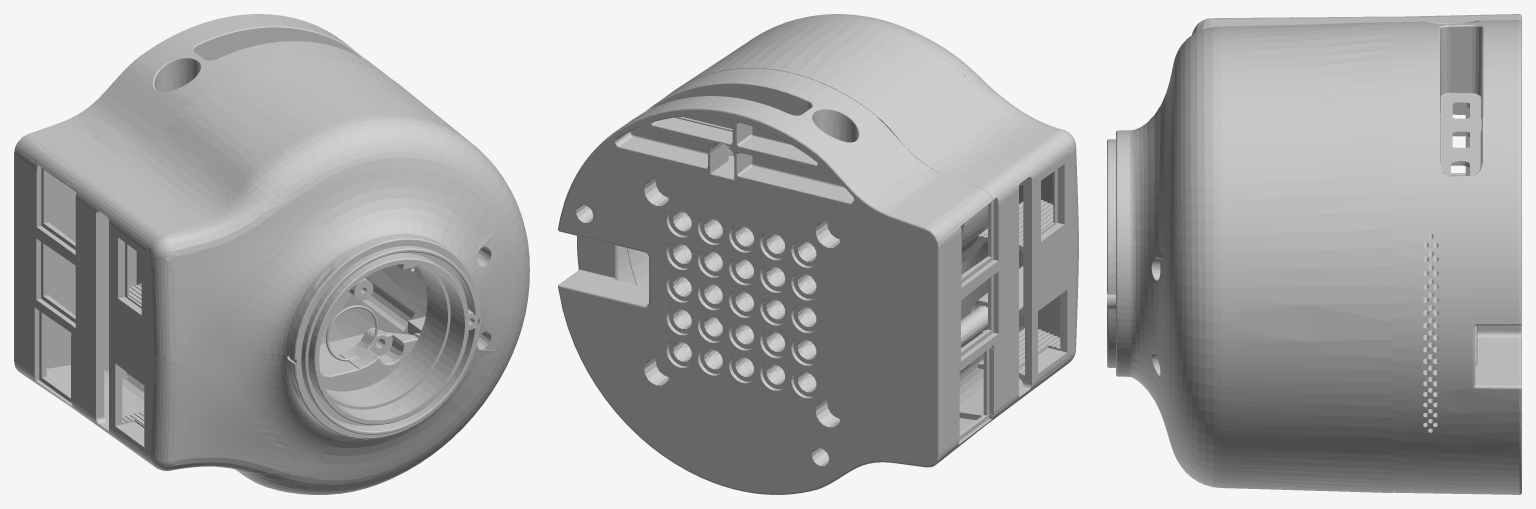
Rendered from joint1_pi.obj.
3 renders of one model, left to right at view 1: azimuth 30°, elevation 25°; view 2: azimuth 150°, elevation 25°; view 3: azimuth 270°, elevation 25°, orthographic. The views are drawn at different scales.
Visible parts, largest first — view 1: mesh-a1c5934d-5c4b-46fa-b977-382af90aa0fb; view 2: mesh-a1c5934d-5c4b-46fa-b977-382af90aa0fb; view 3: mesh-a1c5934d-5c4b-46fa-b977-382af90aa0fb.
Part boxes in pixels (x1=…): mesh-a1c5934d-5c4b-46fa-b977-382af90aa0fb: x1=14, y1=14, x2=529, y2=494; mesh-a1c5934d-5c4b-46fa-b977-382af90aa0fb: x1=558, y1=14, x2=1078, y2=494; mesh-a1c5934d-5c4b-46fa-b977-382af90aa0fb: x1=1107, y1=14, x2=1521, y2=494.
Bounding box in the file's own units: 0.0985 × 0.0926 × 0.0809.
1 material, 1 textured.
